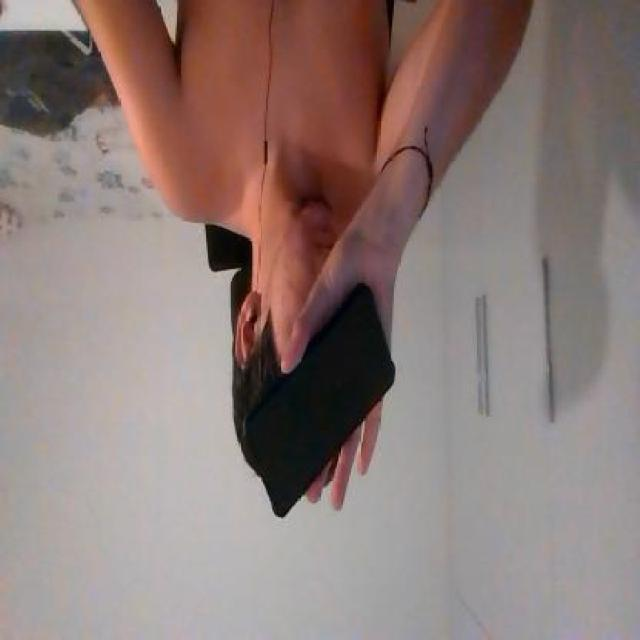phone: (241, 283, 397, 517)
